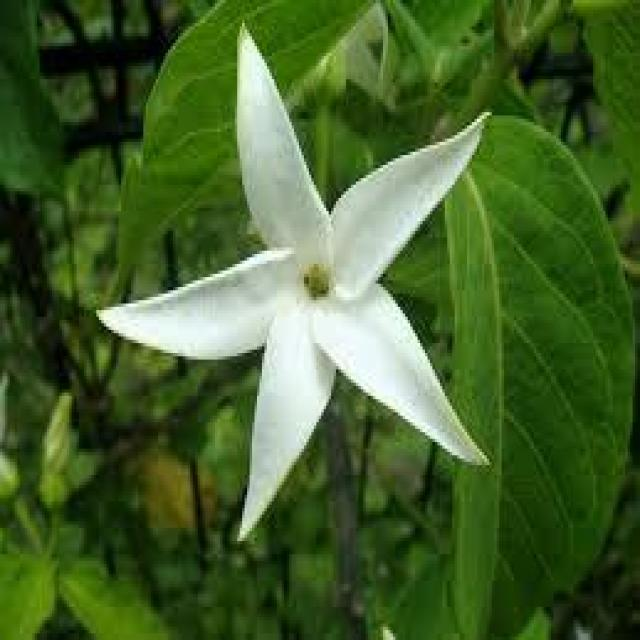organic waste: (105, 25, 495, 526)
